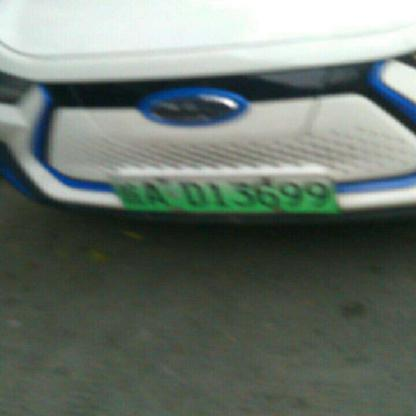lp: (109, 176, 339, 212)
